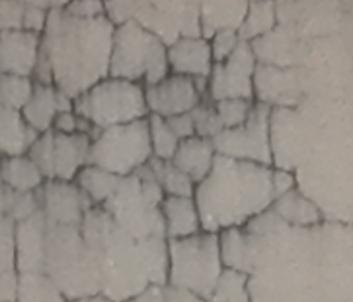retracao: (0, 5, 347, 302)
